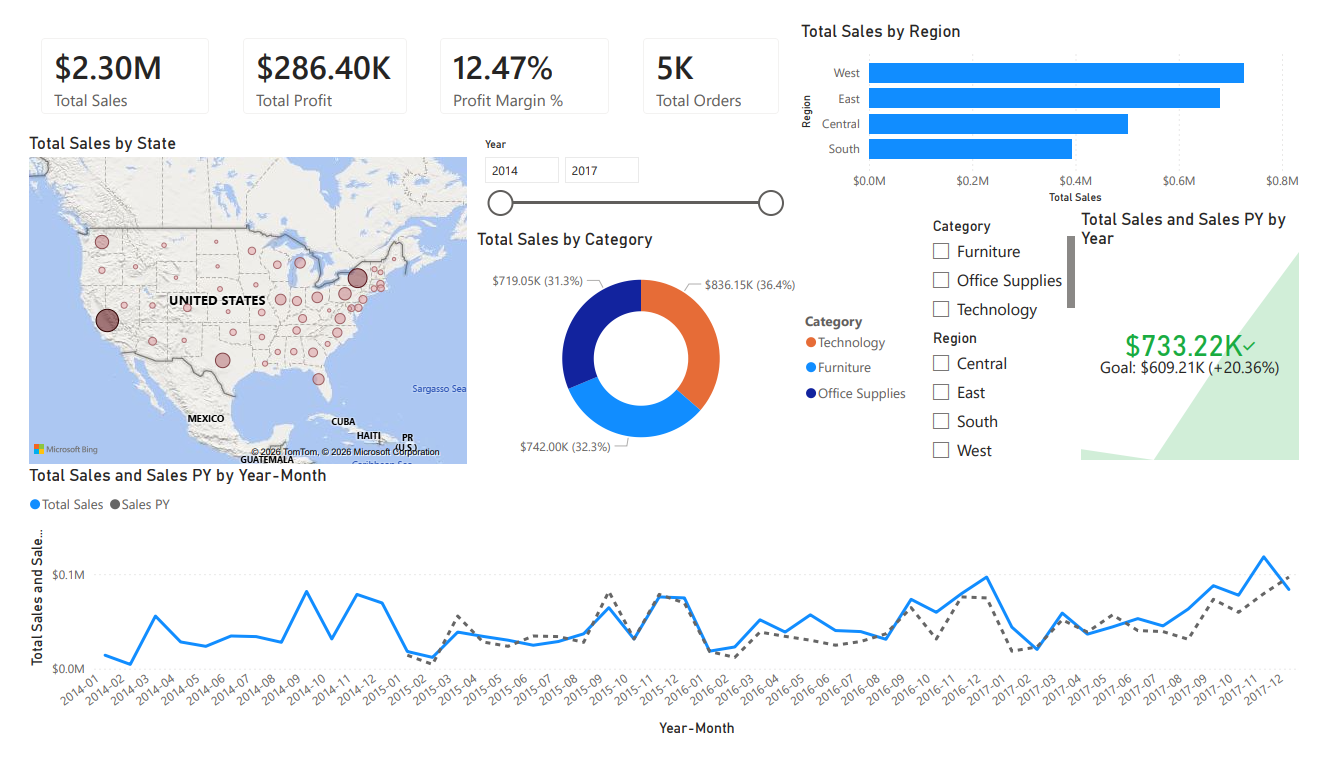

Layout of this report page (visuals, bound fields, positions):
{"tool":"powerbi","page":{"name":"Executive Overview","canvas":[1280,720],"ordinal":0},"visuals":[{"type":"cardVisual","fields":{"Data":["Date.Total Sales"]},"box":[0,0,202.3,109.9],"z":0},{"type":"cardVisual","fields":{"Data":["Date.Total Profit"]},"box":[202.3,0,197.4,109.9],"z":1000},{"type":"cardVisual","fields":{"Data":["Date.Profit Margin %"]},"box":[399.4,0,202.5,109.6],"z":2000},{"type":"cardVisual","fields":{"Data":["Date.Total Orders"]},"box":[601.9,0,170.6,109.6],"z":3000},{"type":"kpi","fields":{"Indicator":["Date.Total Sales"],"Goal":["Date.Sales PY"],"TrendLine":["Date.Year"]},"box":[1052.4,187.7,227.6,256.8],"z":4000},{"type":"lineChart","fields":{"Category":["Date.Year-Month"],"Y":["Date.Total Sales","Date.Sales PY"]},"box":[0,444.5,1280,275.3],"z":5000},{"type":"barChart","fields":{"Category":["Orders.Region"],"Y":["Date.Total Sales"]},"box":[772.4,0,507.6,187.2],"z":6000},{"type":"map","fields":{"Category":["Orders.State"],"Size":["Date.Total Sales"]},"box":[0,112,448,336],"z":7000},{"type":"donutChart","fields":{"Category":["Orders.Category"],"Y":["Date.Total Sales"]},"box":[448,208,448,240],"z":8000},{"type":"slicer","fields":{"Values":["Date.Year"]},"box":[448,112,320,96],"z":9000},{"type":"slicer","fields":{"Values":["Orders.Region"]},"box":[896,304,160,144],"z":10000},{"type":"slicer","fields":{"Values":["Orders.Category"]},"box":[896,192,160,112],"z":11000}]}

Visuals, with their boxes in screenshot pixels (x1, y1, x2, y2), scaled from the page's 1280x720 canvas onto the 1325x765 screenshot:
cardVisual - Date.Total Sales: <bbox>0, 0, 209, 117</bbox>
cardVisual - Date.Total Profit: <bbox>209, 0, 414, 117</bbox>
cardVisual - Date.Profit Margin %: <bbox>413, 0, 623, 116</bbox>
cardVisual - Date.Total Orders: <bbox>623, 0, 800, 116</bbox>
kpi - Date.Total Sales x Date.Sales PY: <bbox>1089, 199, 1324, 472</bbox>
lineChart - Date.Year-Month x Date.Total Sales: <bbox>0, 472, 1324, 764</bbox>
barChart - Orders.Region x Date.Total Sales: <bbox>800, 0, 1324, 199</bbox>
map - Orders.State x Date.Total Sales: <bbox>0, 119, 464, 476</bbox>
donutChart - Orders.Category x Date.Total Sales: <bbox>464, 221, 928, 476</bbox>
slicer - Date.Year: <bbox>464, 119, 795, 221</bbox>
slicer - Orders.Region: <bbox>928, 323, 1093, 476</bbox>
slicer - Orders.Category: <bbox>928, 204, 1093, 323</bbox>
